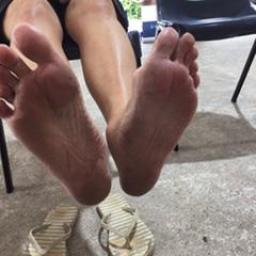Plantar View -Both Feet-: (2, 17, 206, 207)
